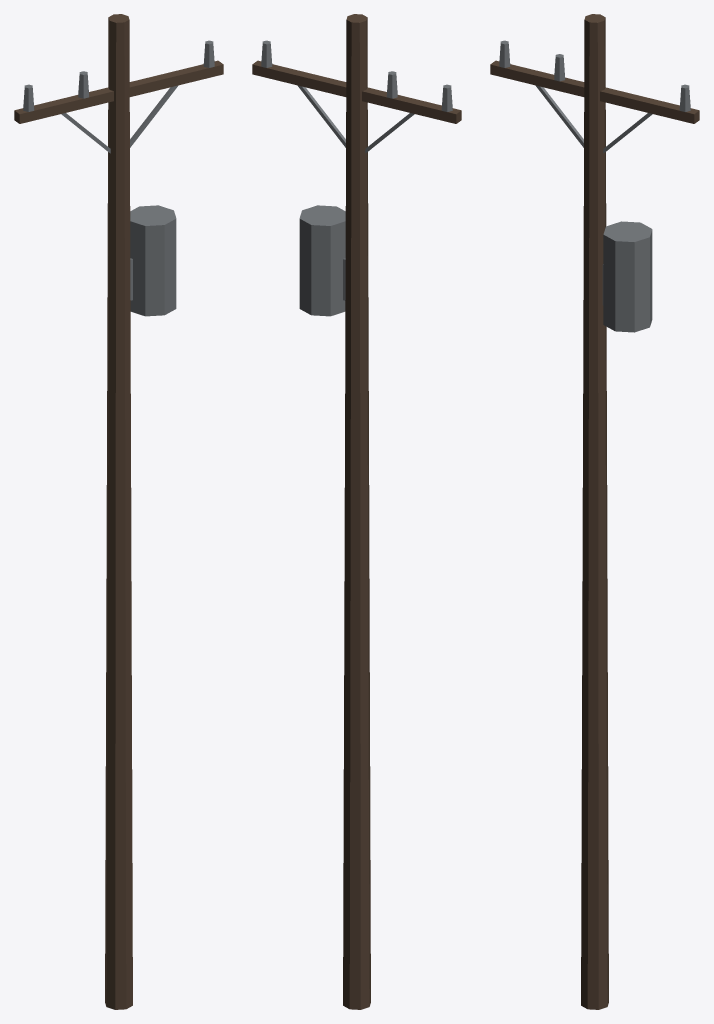
The model's file is utility-pole.glb.
The picture shows the model from 3 angles, left to right: view 1: azimuth 30°, elevation 25°; view 2: azimuth 150°, elevation 25°; view 3: azimuth 330°, elevation 25°; orthographic projection.
Visible parts, largest first — view 1: utility-pole_LOD0; view 2: utility-pole_LOD0; view 3: utility-pole_LOD0.
Boxes of the visible parts, x1,y1,x2,y2 form: utility-pole_LOD0: (14,14,223,1009); utility-pole_LOD0: (252,14,461,1009); utility-pole_LOD0: (490,14,699,1009).
Size of what is drawn, in the model's own units: 2.6 by 12 by 0.56.
